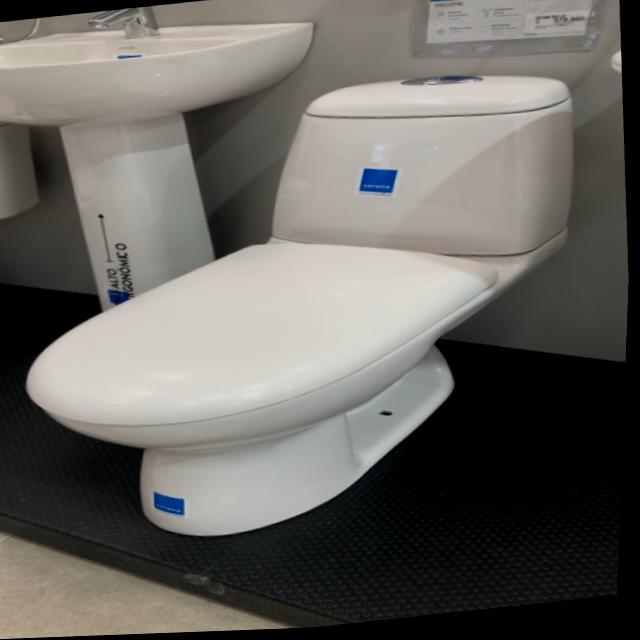toilet: (3, 63, 602, 557)
